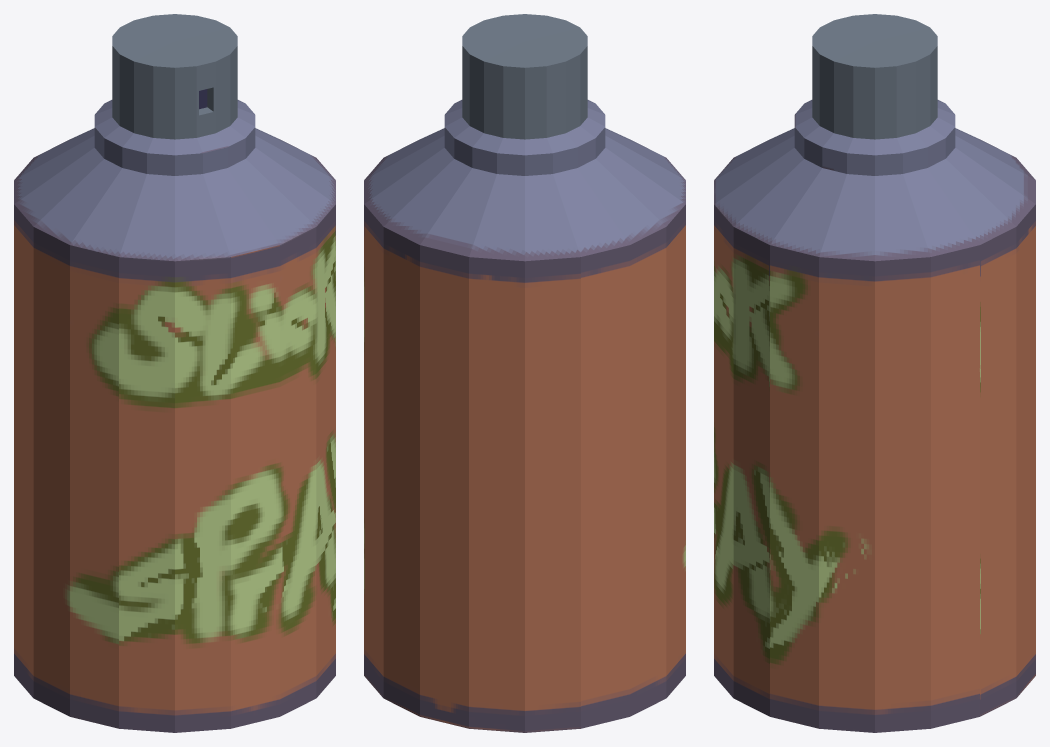
File: spraycan.glb
3 renders of one model, left to right at view 1: azimuth 30°, elevation 25°; view 2: azimuth 150°, elevation 25°; view 3: azimuth 270°, elevation 25°, orthographic.
Parts seen in each view (by area): view 1: spraycan; view 2: spraycan; view 3: spraycan.
Part boxes in pixels (x1,y1,x2,y2): spraycan: (14,14,335,732); spraycan: (364,14,685,732); spraycan: (714,14,1035,732).
Bounding box in the file's own units: 0.0121 × 0.0254 × 0.0119.
1 material, 1 textured.
